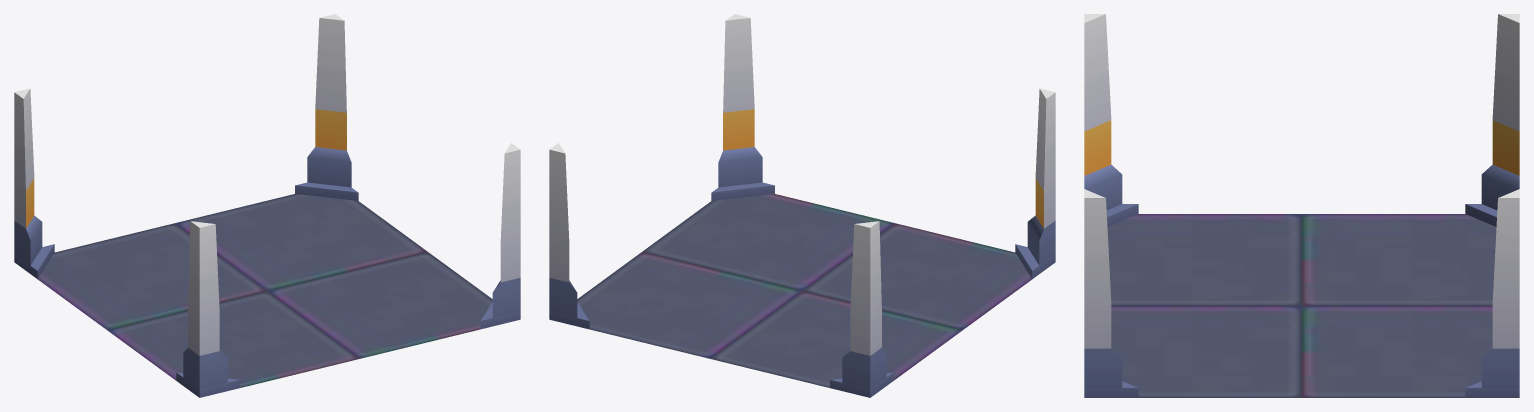
The model's file is corridor-wide-intersection.glb.
3 renders of one model, left to right at view 1: azimuth 30°, elevation 25°; view 2: azimuth 150°, elevation 25°; view 3: azimuth 270°, elevation 25°, orthographic. The views are drawn at different scales.
Visible parts, largest first — view 1: corridor-wide-intersection; view 2: corridor-wide-intersection; view 3: corridor-wide-intersection.
Part boxes in pixels (x1=…): corridor-wide-intersection: x1=14, y1=14, x2=520, y2=397; corridor-wide-intersection: x1=549, y1=14, x2=1055, y2=397; corridor-wide-intersection: x1=1084, y1=14, x2=1519, y2=397.
Bounding box in the file's own units: 8 × 4.05 × 8.
Materials: 1 (1 with a texture image).
